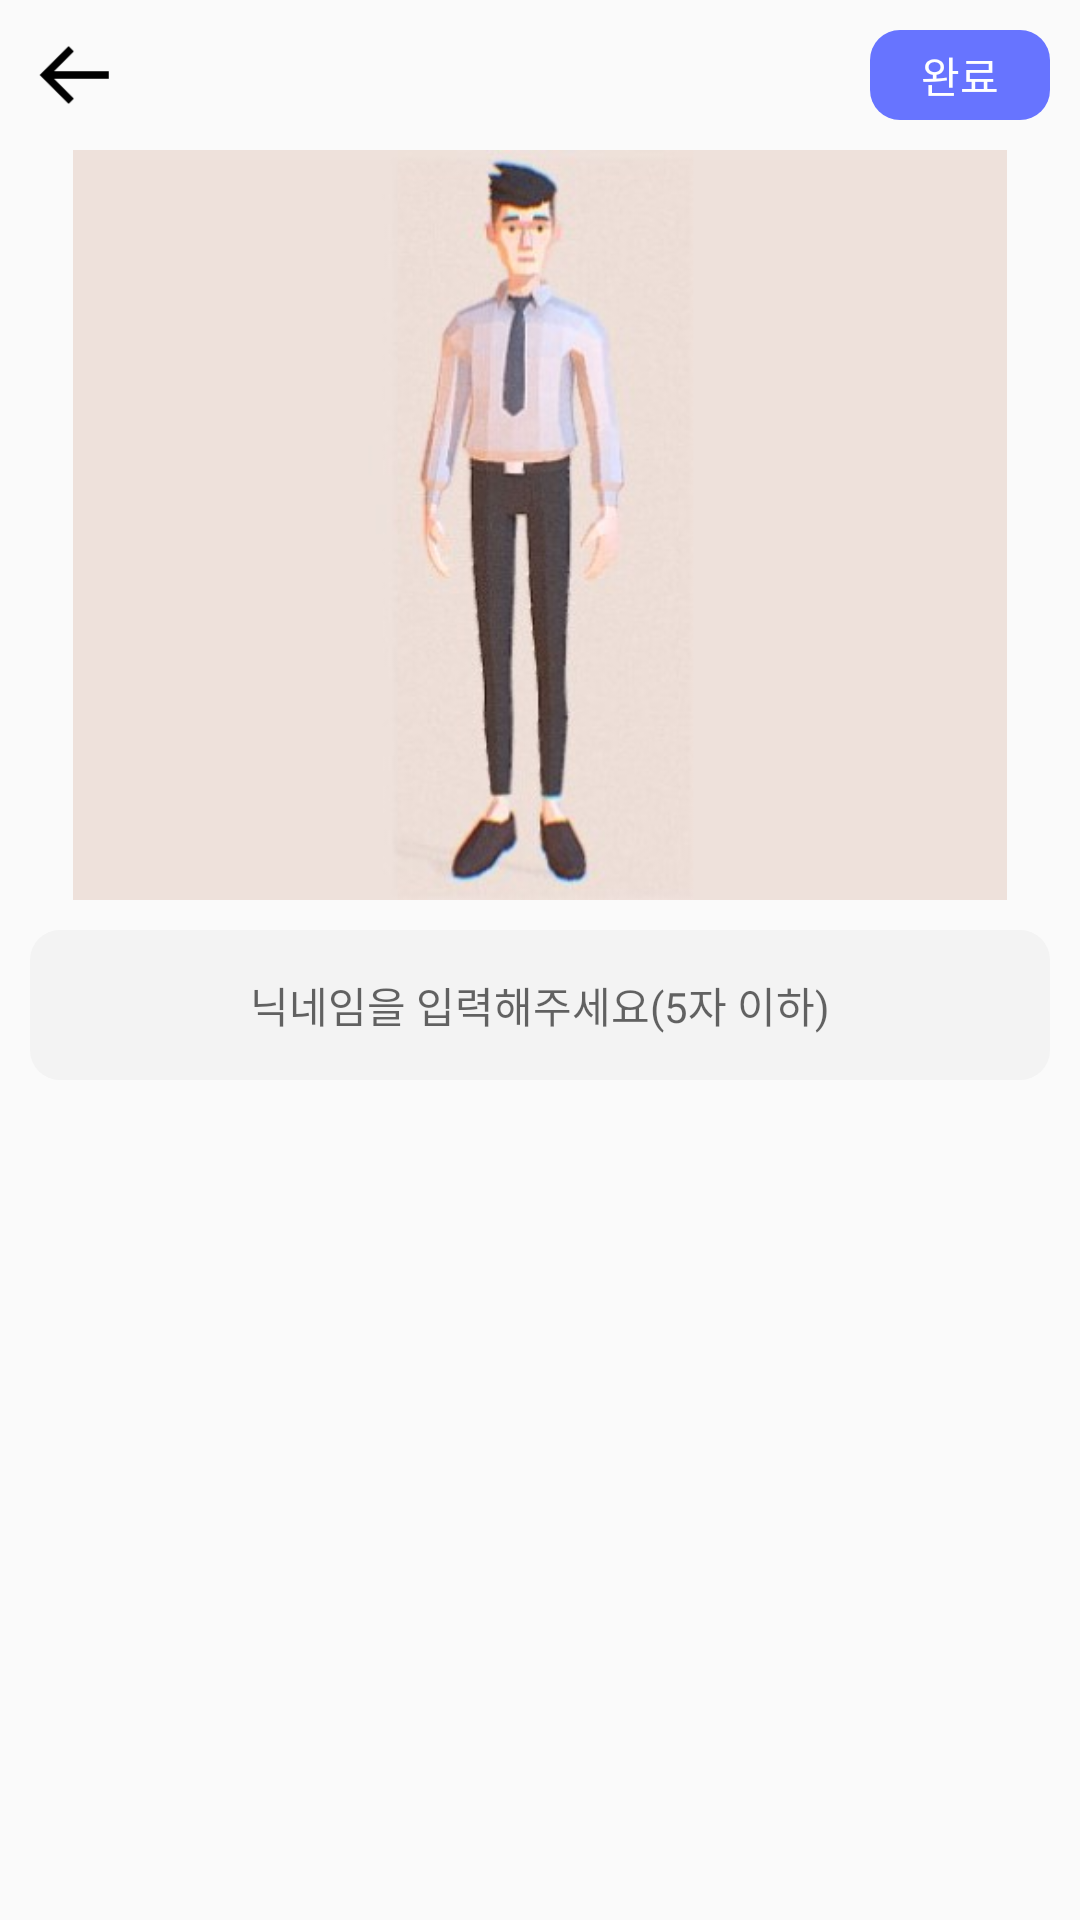

Where to tap for icons on this 1080 × 1920 app screen, as (x=x, y=y):
arrowback: (x=74, y=75)
